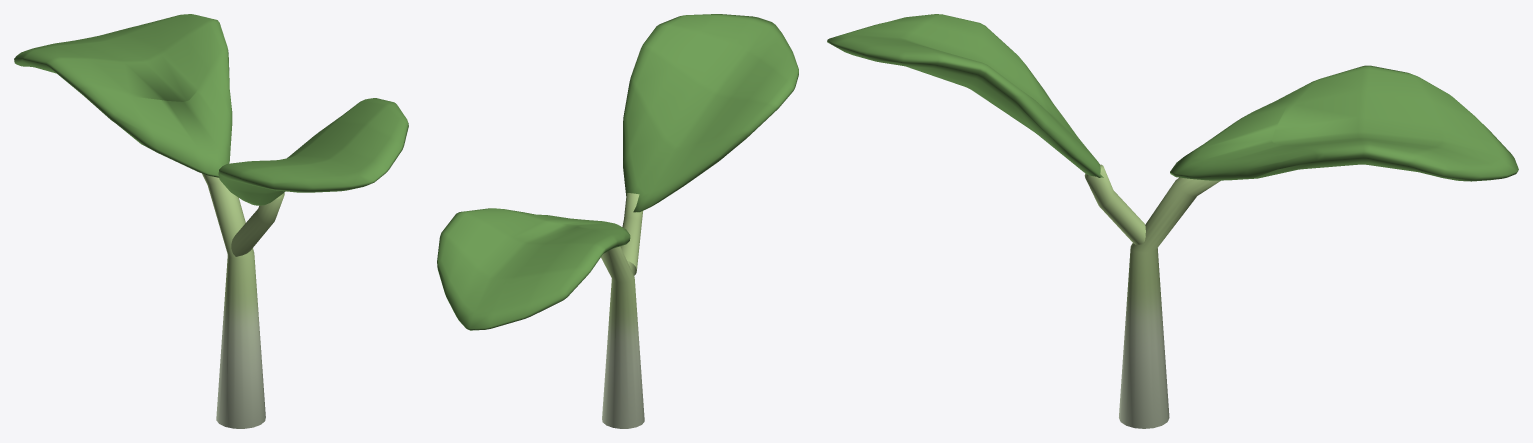
Rendered from Sprout.fbx.
The picture shows the model from 3 angles, left to right: view 1: azimuth 30°, elevation 25°; view 2: azimuth 150°, elevation 25°; view 3: azimuth 270°, elevation 25°; orthographic projection. The views are drawn at different scales.
Parts seen in each view (by area): view 1: Leaf, Leaf 2, Base; view 2: Leaf 2, Leaf, Base; view 3: Leaf, Leaf 2, Base.
Part boxes in pixels (left/top/right/bottom): Leaf: left=14, top=14, right=232, bottom=177; Leaf 2: left=218, top=98, right=408, bottom=205; Base: left=202, top=173, right=284, bottom=428; Leaf 2: left=623, top=14, right=798, bottom=212; Leaf: left=437, top=208, right=630, bottom=330; Base: left=601, top=193, right=644, bottom=428; Leaf: left=1170, top=65, right=1518, bottom=181; Leaf 2: left=827, top=14, right=1103, bottom=177; Base: left=1084, top=164, right=1220, bottom=428.
Size of the model in its own units: 447 by 856 by 1381.
